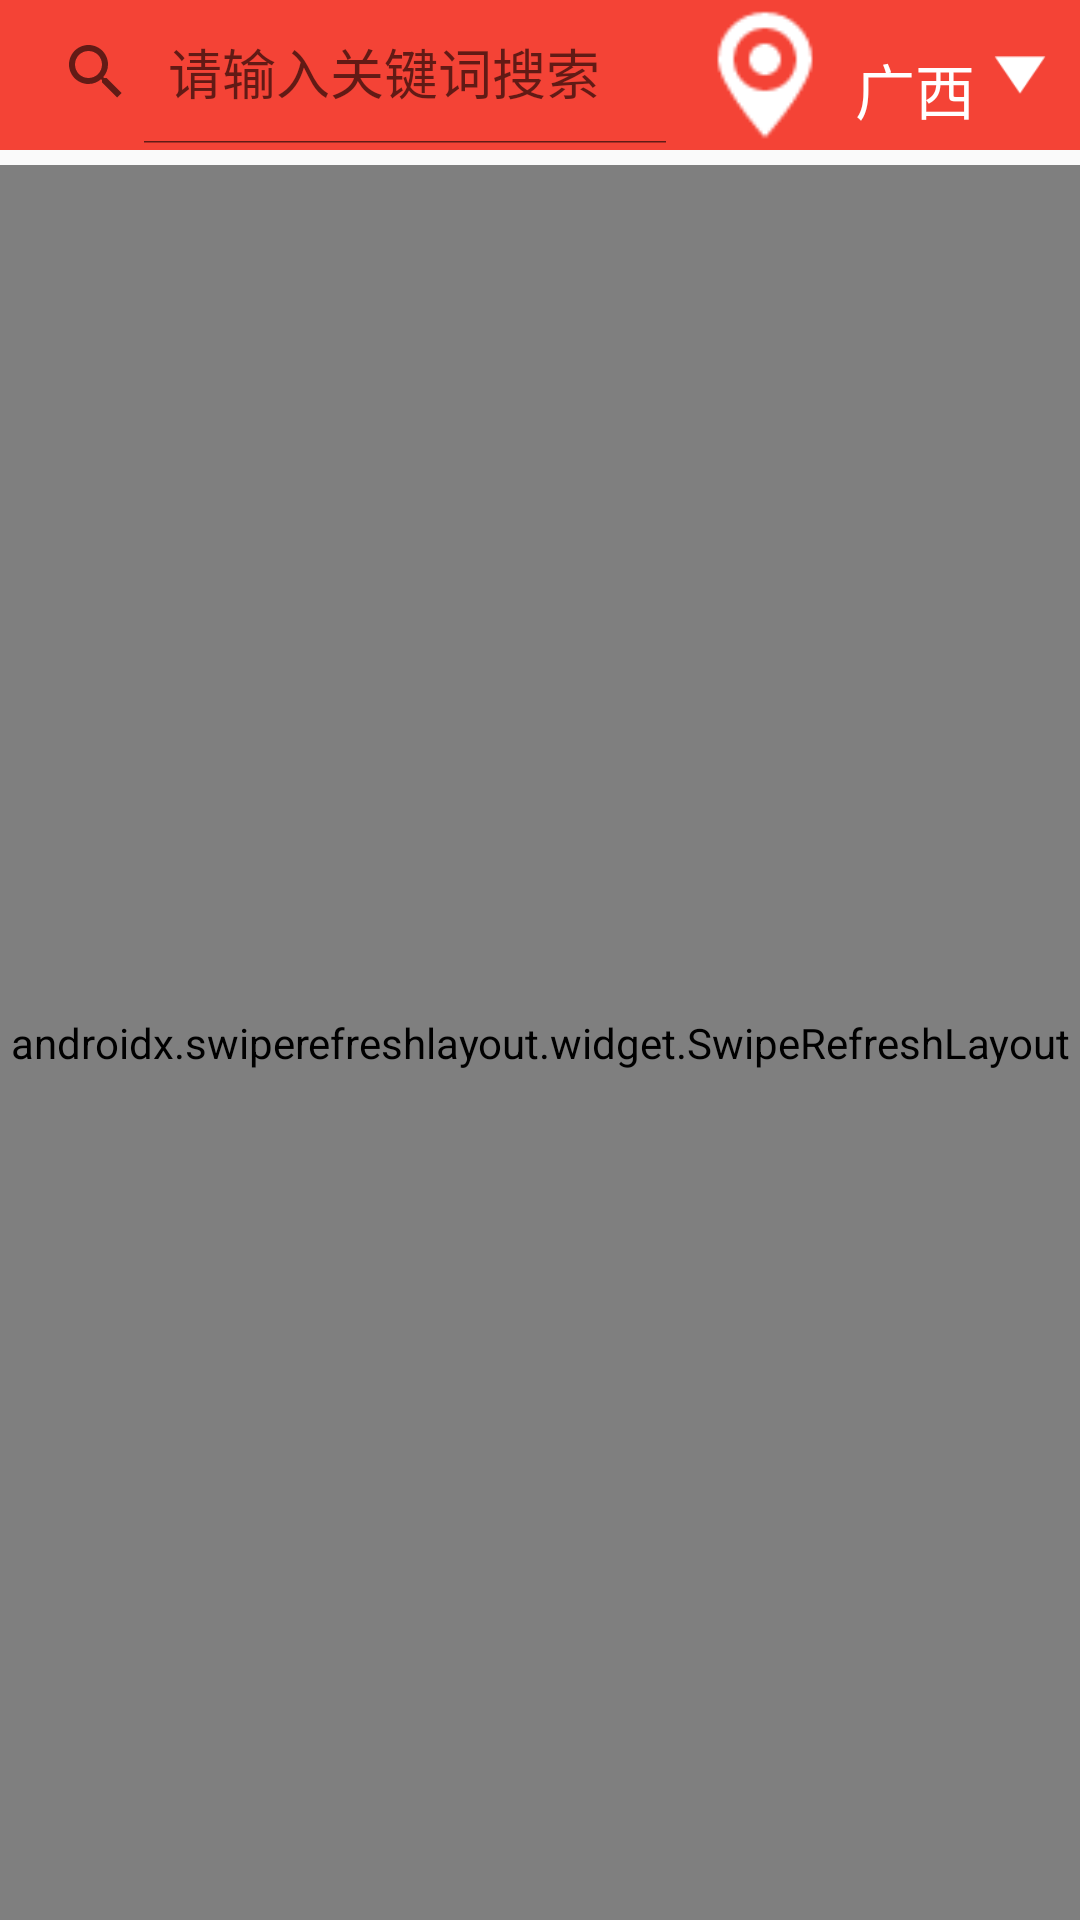

Icon bounding boxes for this 1080px×1920px phone screenshot, format region(x1, y1, x2, y2):
down: region(995, 56, 1045, 94)
location: region(717, 11, 813, 138)
